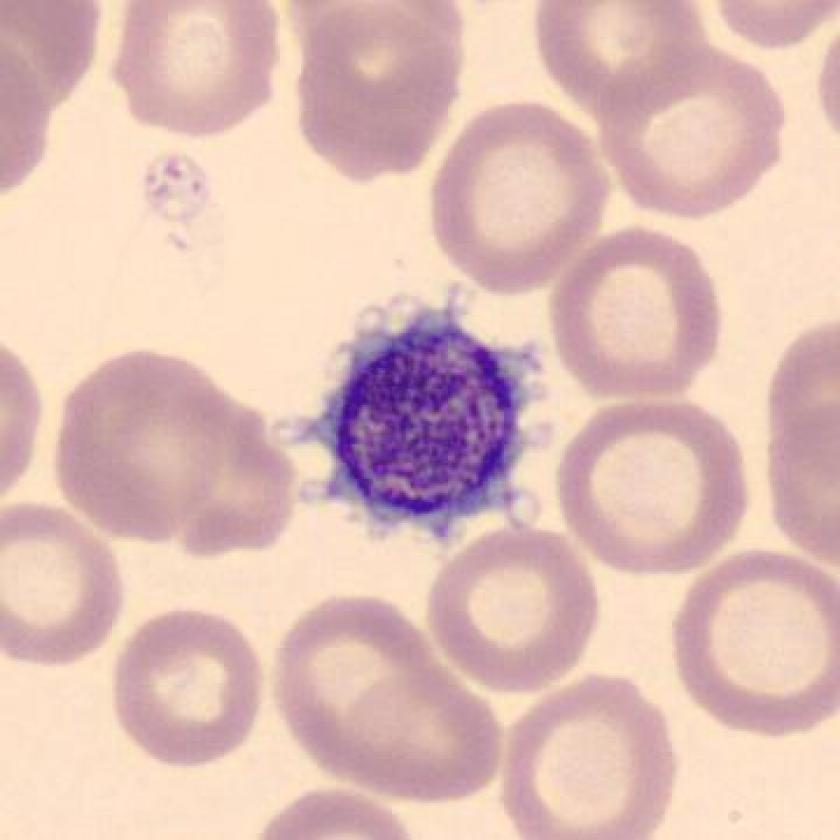platelets: (304, 286, 552, 547)
